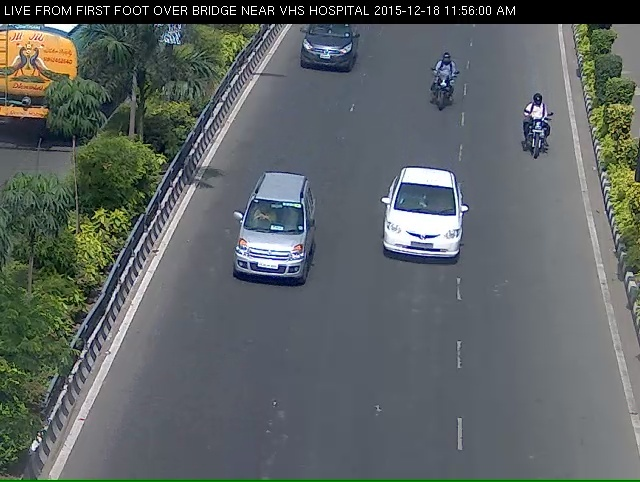Car: (224, 194, 319, 315), (383, 189, 464, 295), (289, 18, 359, 81)
Person: (516, 98, 564, 182), (431, 57, 457, 127)
